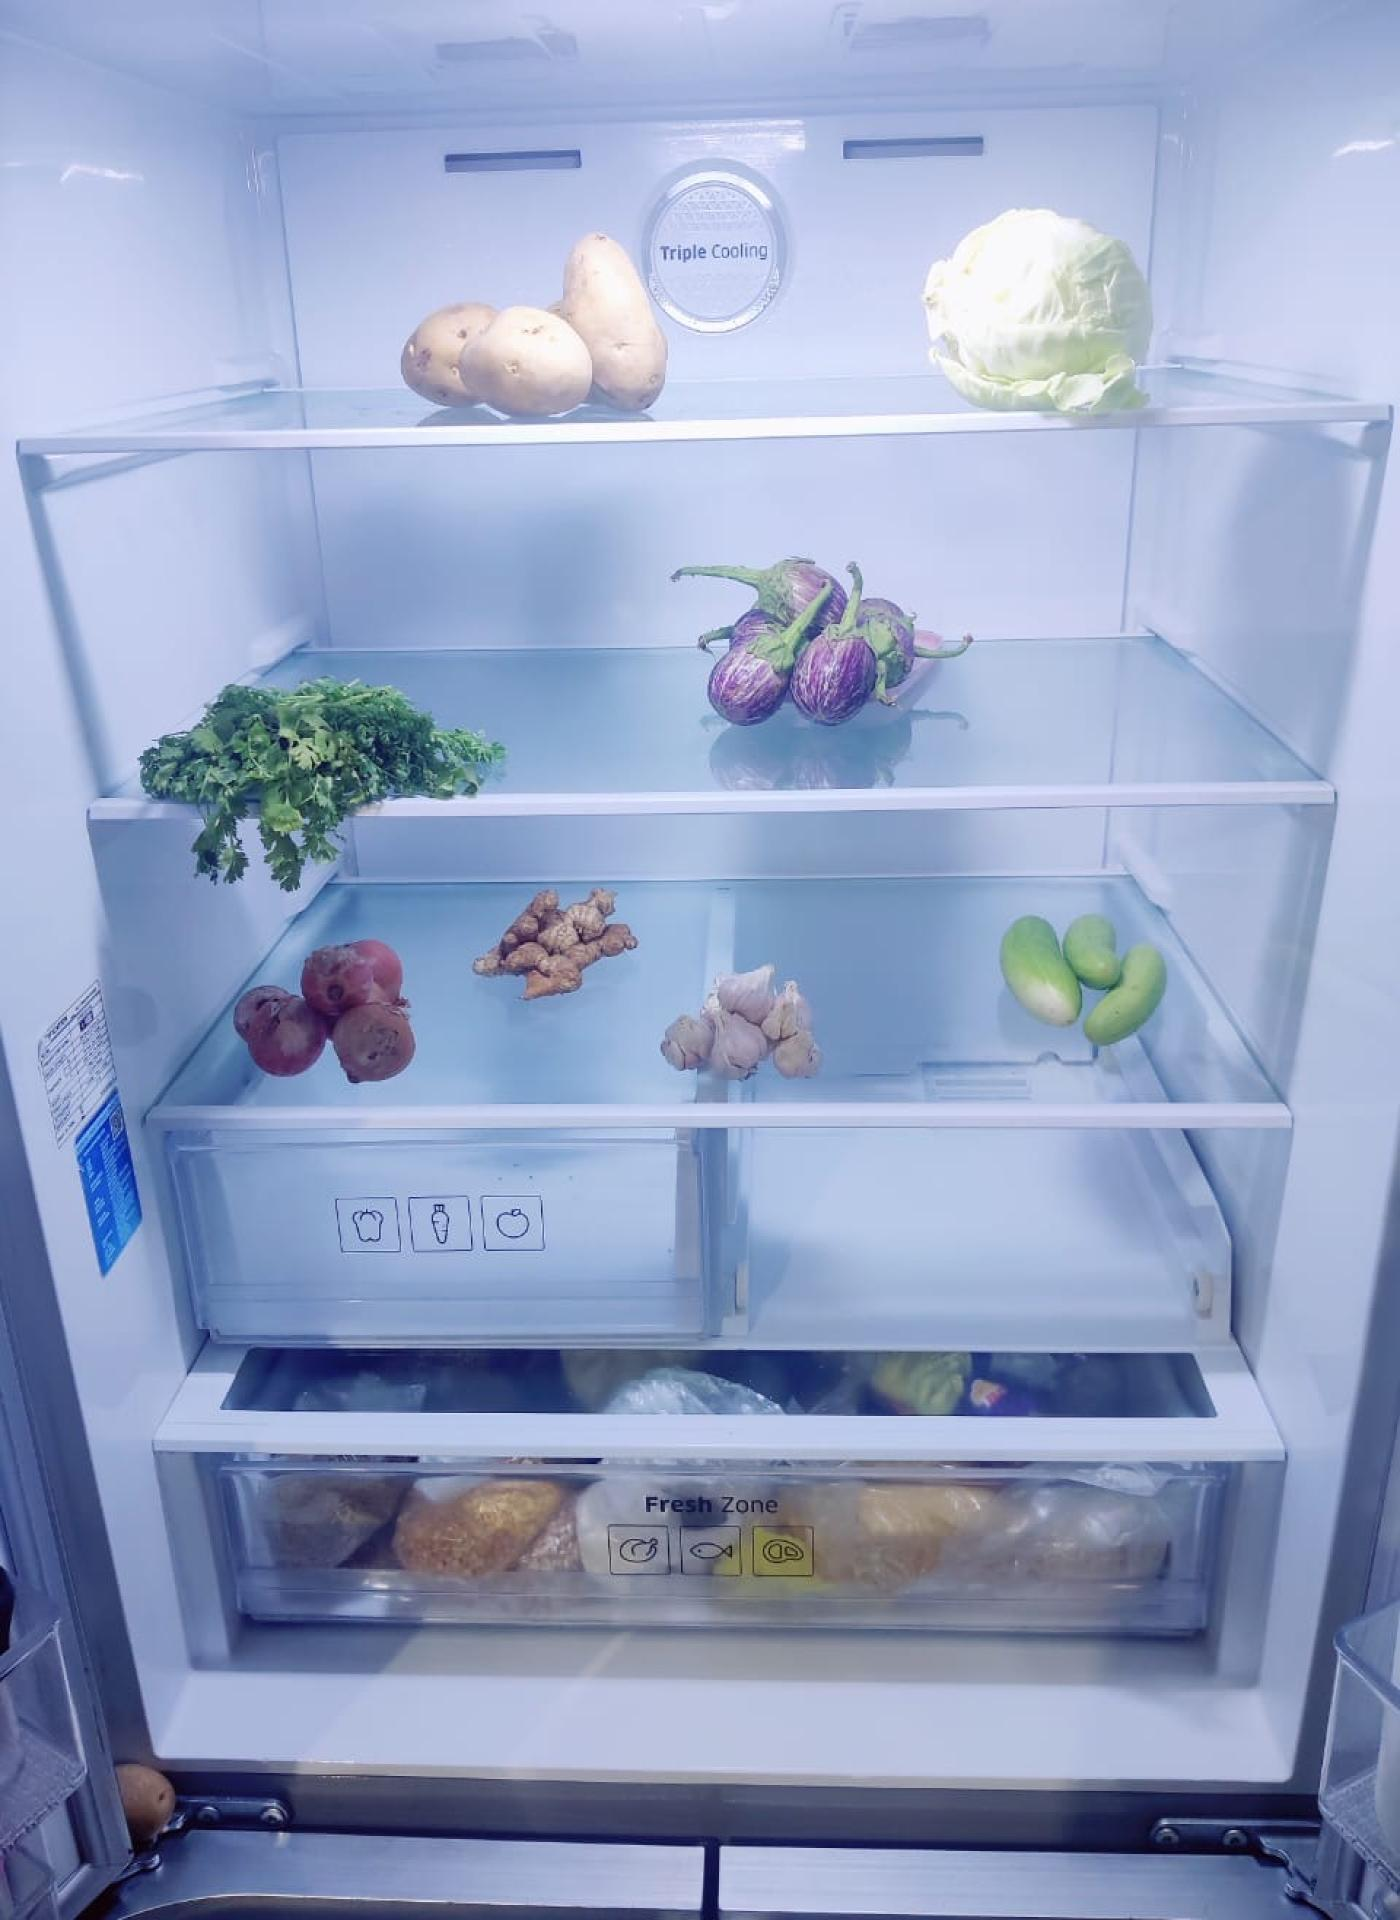brinjal: (704, 562, 917, 723)
cabbage: (929, 204, 1157, 402)
coriander: (143, 684, 482, 848)
cucumber: (999, 903, 1169, 1045)
garlic: (665, 966, 822, 1087)
ginger: (476, 887, 638, 1000)
onion: (239, 939, 419, 1079)
potato: (407, 240, 672, 419)
